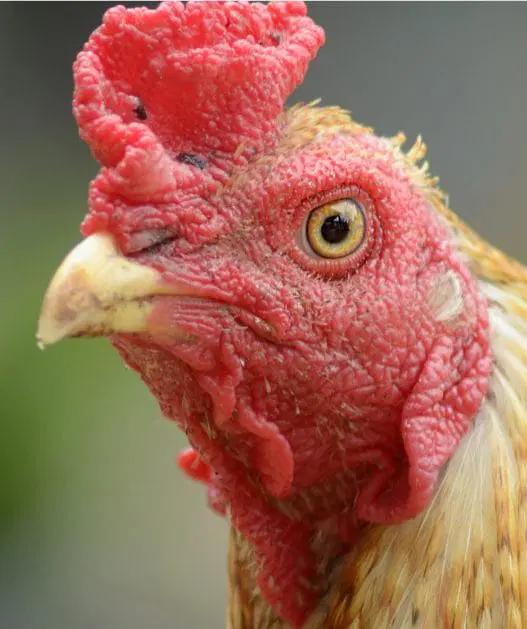AbNormal: (70, 0, 327, 226)
